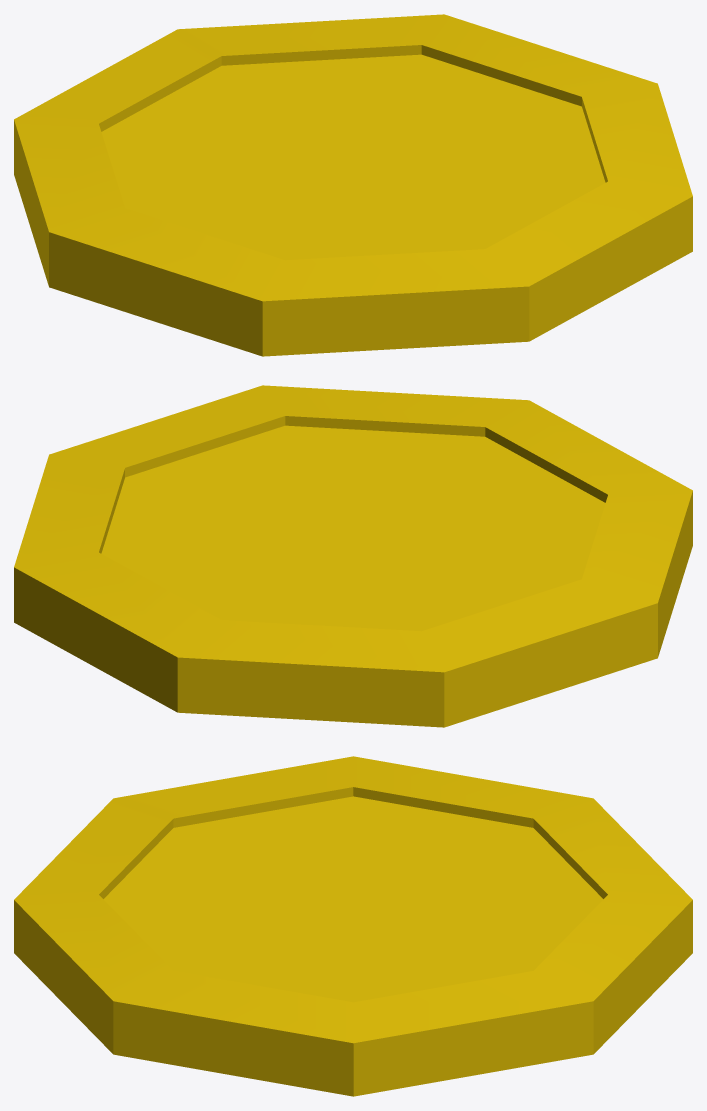
Rendered from coin.fbx.
The picture shows the model from 3 angles, top to bottom: view 1: azimuth 30°, elevation 25°; view 2: azimuth 150°, elevation 25°; view 3: azimuth 270°, elevation 25°; orthographic projection. The views are drawn at different scales.
Parts seen in each view (by area): view 1: coin; view 2: coin; view 3: coin.
Part boxes in pixels (x1=…): coin: x1=14, y1=14, x2=692, y2=356; coin: x1=14, y1=385, x2=692, y2=727; coin: x1=14, y1=756, x2=692, y2=1096.
Bounding box in the file's own units: 9.23 × 0.9532 × 9.23.
